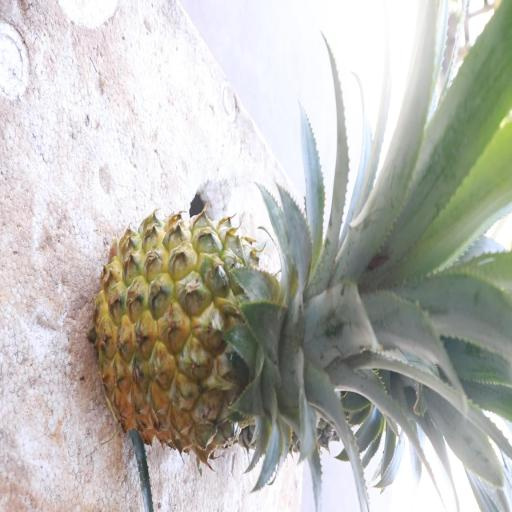Pineapple - v8 v1: (90, 205, 374, 474)
